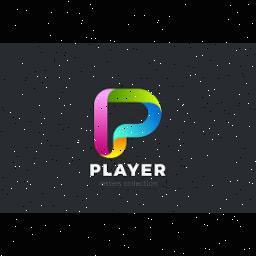p: (88, 164, 102, 182)
